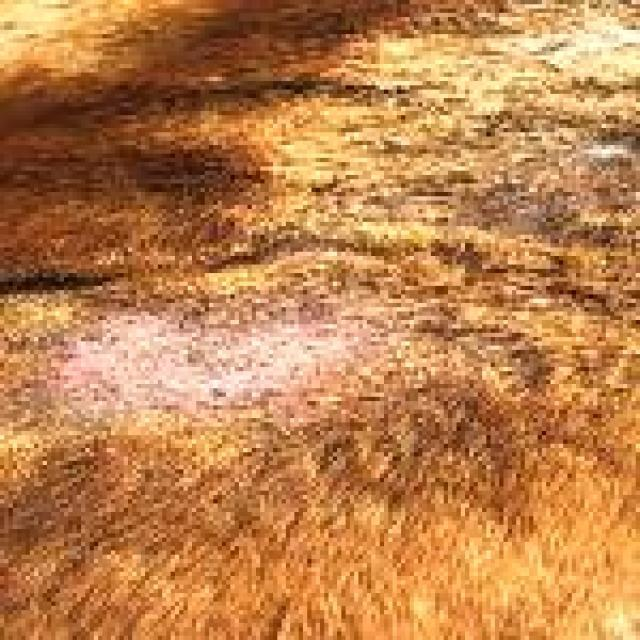fungal infection: (64, 302, 378, 422)
